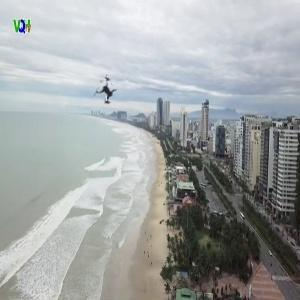drone: (80, 65, 134, 119)
